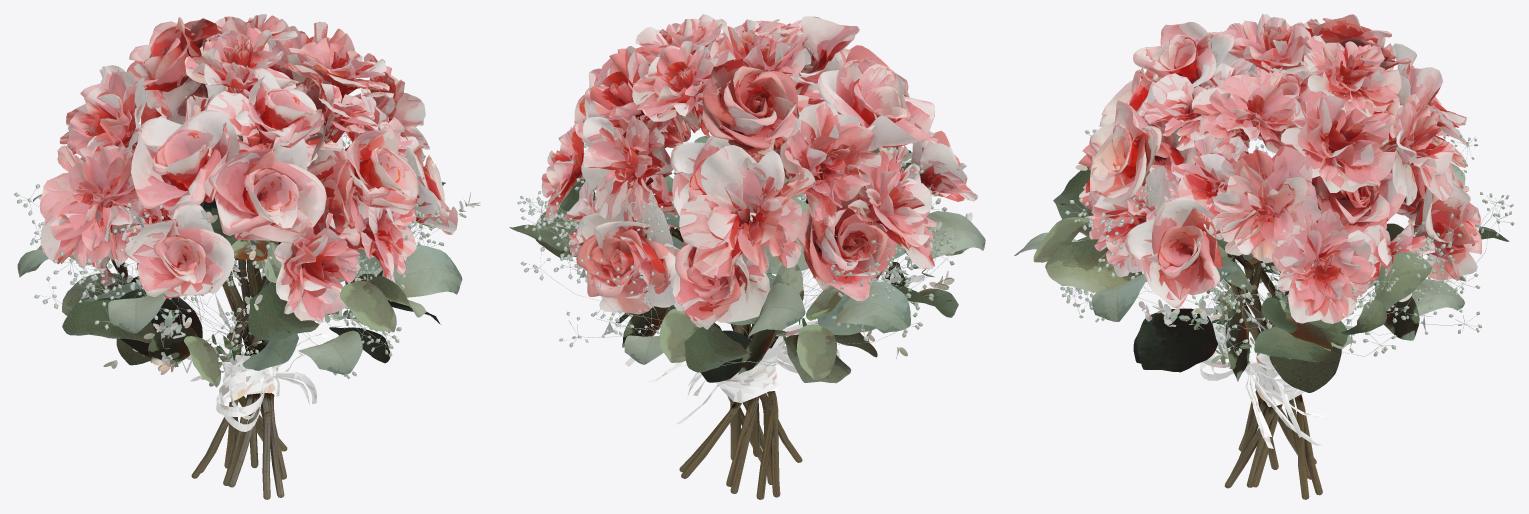
File: bouquet.glb
The picture shows the model from 3 angles, left to right: view 1: azimuth 30°, elevation 25°; view 2: azimuth 150°, elevation 25°; view 3: azimuth 270°, elevation 25°; orthographic projection.
Parts seen in each view (by area): view 1: Leaves_003, Leaves_002, Petal_010, Petal_005, Petal_012, Petal_004, Stems, Petal_022, Petal_019, Petal_002, Petal_008, Petal_025 (+26 smaller); view 2: Leaves_002, Petal_001, Petal_016, Petal_002, Petal_019, Petal_012, Petal_014, Petal_009, Stems, Petal_010, Petal_003, Petal_007 (+25 smaller); view 3: Leaves_003, Petal_017, Petal_018, Petal_015, Petal_021, Leaves_001, Petal_020, Stems, Petal_007, Petal_008, Petal_014, Petal_016 (+27 smaller).
Boxes of the visible parts, <box> form: Leaves_003: <box>136,198,462,374</box>; Leaves_002: <box>17,194,298,387</box>; Petal_010: <box>39,143,138,267</box>; Petal_005: <box>208,132,326,243</box>; Petal_012: <box>131,110,239,210</box>; Petal_004: <box>124,204,234,298</box>; Stems: <box>191,135,287,499</box>; Petal_022: <box>274,210,360,322</box>; Petal_019: <box>127,17,221,124</box>; Petal_002: <box>67,70,146,162</box>; Petal_008: <box>346,121,418,214</box>; Petal_025: <box>247,68,323,149</box>; Leaves_002: <box>622,197,985,383</box>; Petal_001: <box>679,145,815,277</box>; Petal_016: <box>576,202,676,314</box>; Petal_002: <box>780,102,881,225</box>; Petal_019: <box>701,59,800,155</box>; Petal_012: <box>817,57,938,151</box>; Petal_014: <box>581,115,665,220</box>; Petal_009: <box>797,196,896,302</box>; Stems: <box>670,198,808,499</box>; Petal_010: <box>847,150,936,269</box>; Petal_003: <box>664,212,770,329</box>; Petal_007: <box>632,41,734,121</box>; Leaves_003: <box>1014,166,1341,392</box>; Petal_017: <box>1209,145,1321,263</box>; Petal_018: <box>1272,208,1375,323</box>; Petal_015: <box>1281,91,1396,192</box>; Petal_021: <box>1124,197,1222,308</box>; Leaves_001: <box>1217,238,1432,362</box>; Petal_020: <box>1192,71,1301,153</box>; Stems: <box>1224,182,1376,499</box>; Petal_007: <box>1303,34,1401,117</box>; Petal_008: <box>1089,100,1161,204</box>; Petal_014: <box>1380,94,1455,205</box>; Petal_016: <box>1403,180,1481,280</box>.
Bounding box in the file's own units: 0.3586 × 0.3863 × 0.3838.
20 materials, 20 textured.
